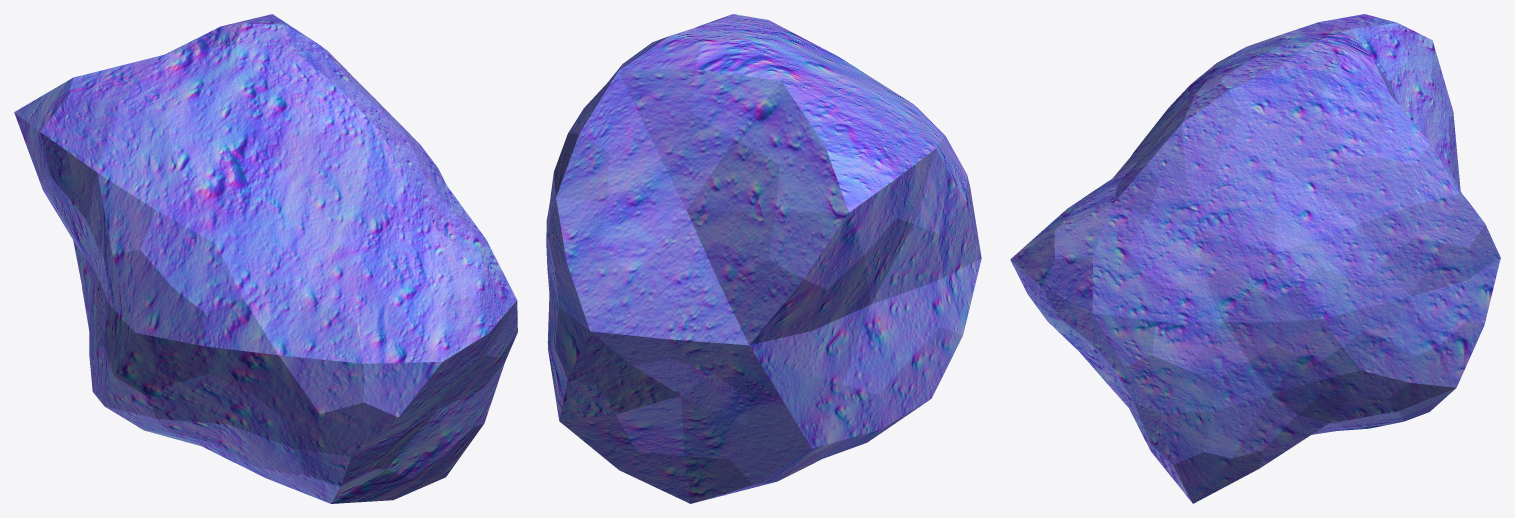
File: bigasteroid6_LOD3.fbx
3 views of the same model, side by side, from view 1: azimuth 30°, elevation 25°; view 2: azimuth 150°, elevation 25°; view 3: azimuth 270°, elevation 25° (orthographic). The views are drawn at different scales.
Visible parts, largest first — view 1: Icosphere; view 2: Icosphere; view 3: Icosphere.
Boxes of the visible parts, x1,y1,x2,y2 form: Icosphere: [14, 14, 517, 503]; Icosphere: [546, 14, 981, 503]; Icosphere: [1010, 14, 1500, 503].
Bounding box in the file's own units: 241 × 272 × 304.
